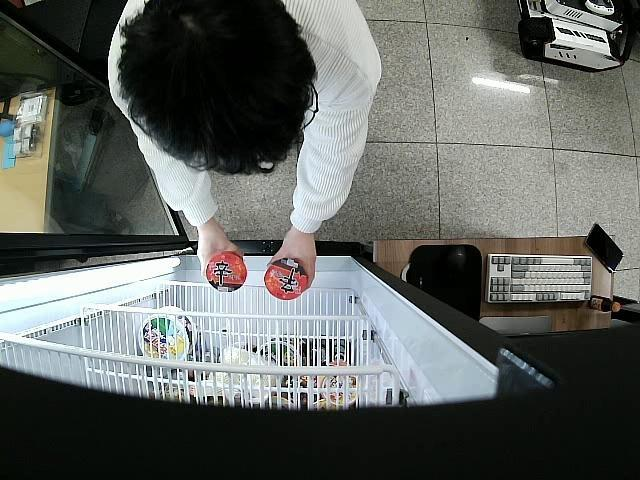02_shinRamen_S: (204, 250, 247, 294), (265, 260, 308, 300)
